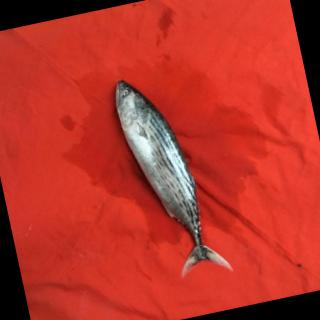Ikan: (102, 58, 247, 300)
